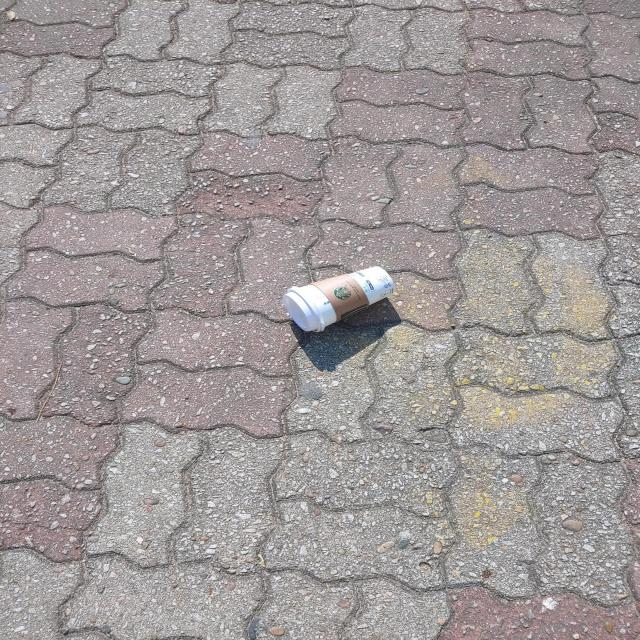paperpack: (282, 267, 395, 332)
